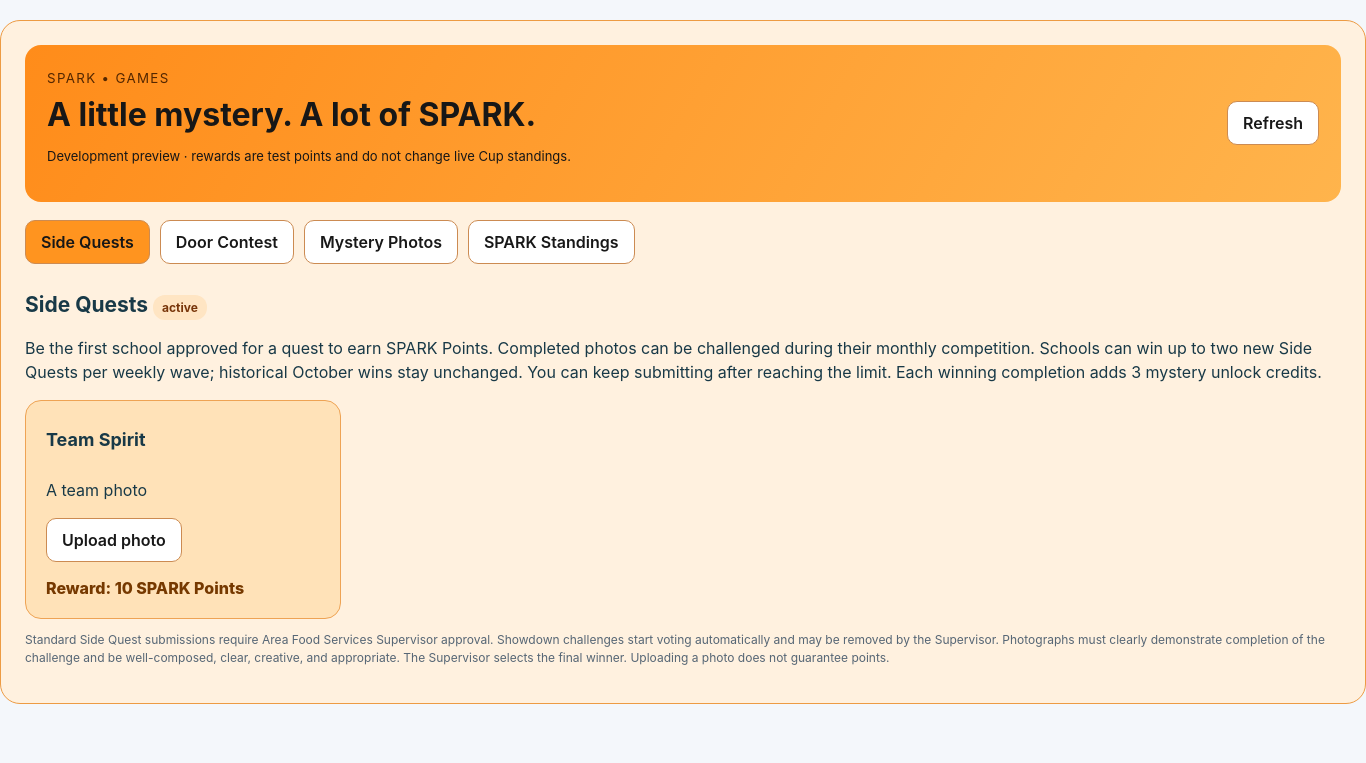
it: game standings use earning month and exclude voided rewards
What coordinates should you click on to do the following:
click the button "SPARK Standings"
I would click on:
 (551, 242)
Its box is [468,220,635,264].
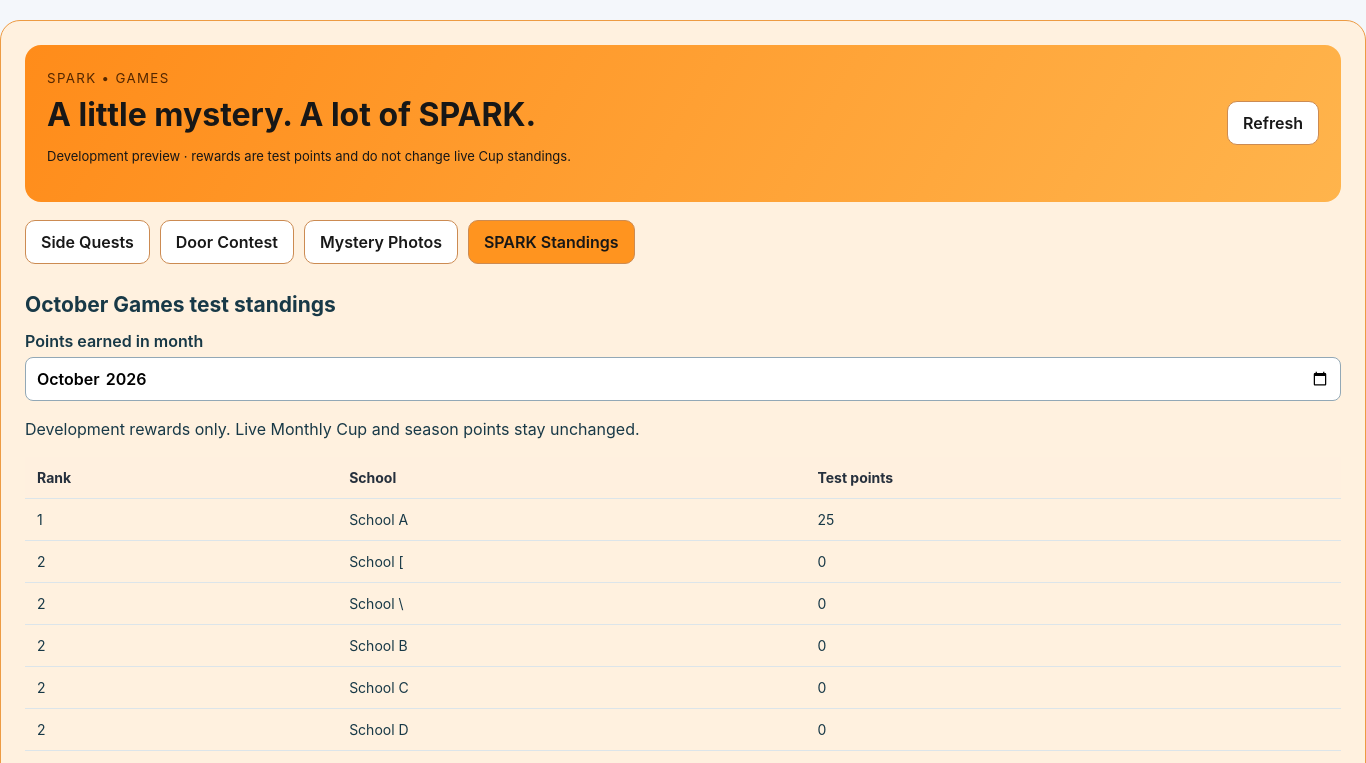
Expected: the row "1 School A 25" is shown, [25,498,1341,540]
